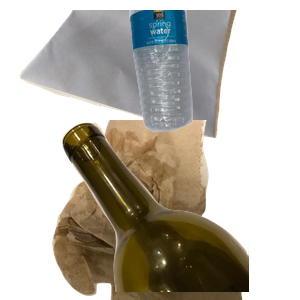glass: (60, 120, 300, 300)
paper: (17, 10, 254, 141)
plastic: (127, 10, 300, 134)
trash: (50, 120, 285, 300)
